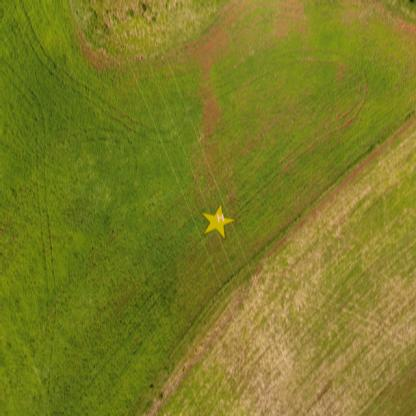H: (216, 214, 228, 224)
star: (199, 201, 237, 243)
